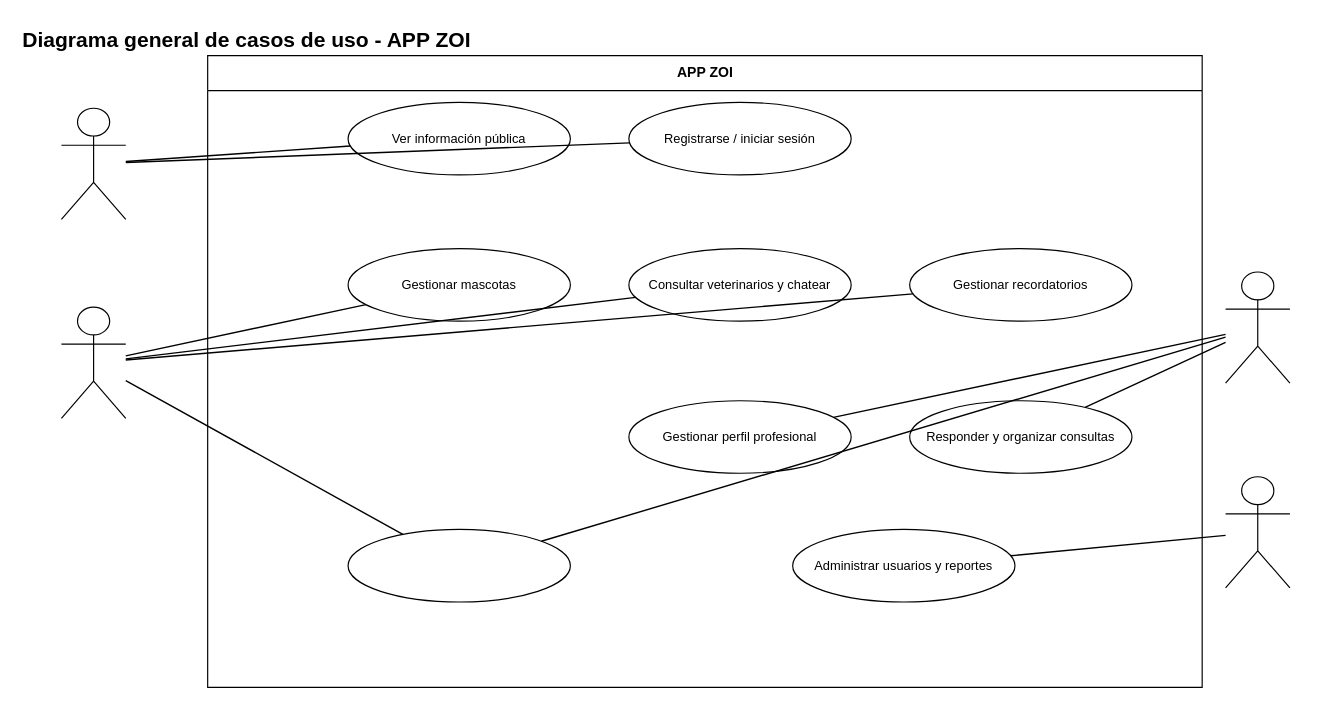
Some shapes in this 1321 by 708 pixel diagram are drawn without their labels. The shapes that lost their labels are listed below. From the top down, each one's centre as x and y in pixels, then its label:
At point (93, 163): "Visitante".
At point (1257, 327): "Veterinario".
At point (93, 362): "Dueño de mascota".
At point (1257, 532): "Administrador".
At point (458, 565): "Gestionar mi cuenta".
